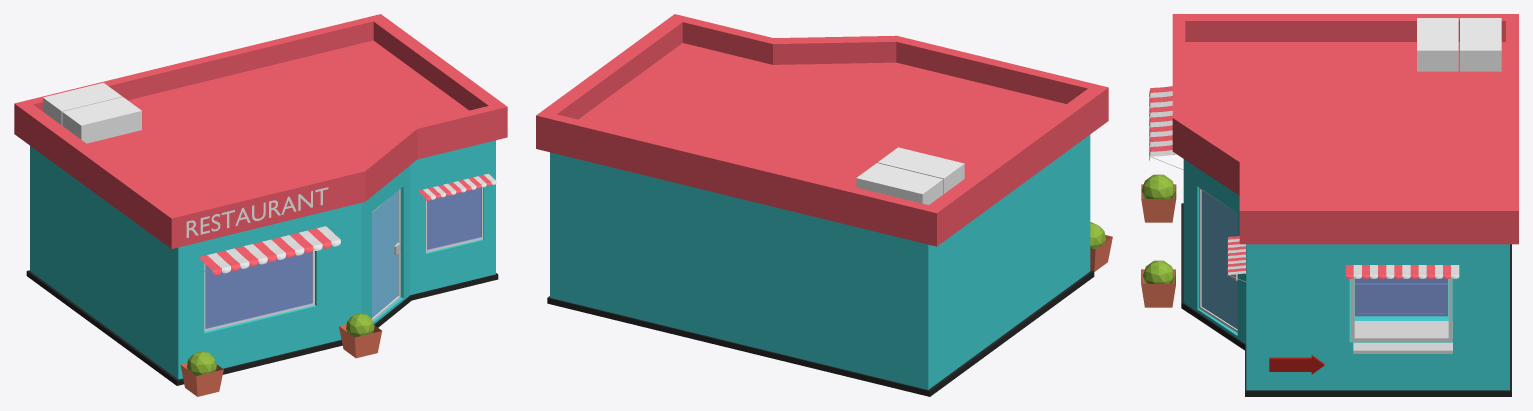
File: restaurant.fbx
3 renders of one model, left to right at view 1: azimuth 30°, elevation 25°; view 2: azimuth 150°, elevation 25°; view 3: azimuth 270°, elevation 25°, orthographic. The views are drawn at different scales.
Visible parts, largest first — view 1: Cube.095, Cube.094, Plane.015, Plane.011, Plane.014, Cylinder.008, Cube.096, Cube, Cube.001, Icosphere, Icosphere.003, Text (+1 smaller); view 2: Cube.095, Cube.094, Cube.096, Cube.001, Cube, Icosphere; view 3: Cube.095, Cube.094, Plane.011, Cube.105, Cube.096, Cube, Cube.001, Cylinder.008, Cylinder.006, Icosphere, Icosphere.003, Cube.099 (+4 smaller).
Part boxes in pixels (x1=…): Cube.095: x1=14, y1=14, x2=507, y2=248; Cube.094: x1=30, y1=140, x2=495, y2=379; Plane.015: x1=204, y1=249, x2=314, y2=331; Plane.011: x1=372, y1=189, x2=400, y2=320; Plane.014: x1=426, y1=187, x2=483, y2=252; Cylinder.008: x1=198, y1=226, x2=340, y2=275; Cube.096: x1=26, y1=270, x2=498, y2=385; Cube: x1=62, y1=97, x2=141, y2=143; Cube.001: x1=43, y1=82, x2=122, y2=125; Icosphere: x1=180, y1=351, x2=223, y2=396; Icosphere.003: x1=339, y1=313, x2=382, y2=358; Text: x1=186, y1=187, x2=328, y2=237; Cube.095: x1=536, y1=14, x2=1108, y2=246; Cube.094: x1=550, y1=135, x2=1090, y2=389; Cube.096: x1=547, y1=270, x2=1094, y2=396; Cube.001: x1=856, y1=163, x2=943, y2=204; Cube: x1=877, y1=147, x2=964, y2=194; Icosphere: x1=1090, y1=222, x2=1112, y2=271; Cube.095: x1=1172, y1=14, x2=1518, y2=244; Cube.094: x1=1183, y1=159, x2=1509, y2=390; Plane.011: x1=1199, y1=187, x2=1237, y2=332; Cube.105: x1=1355, y1=277, x2=1447, y2=316; Cube.096: x1=1181, y1=203, x2=1511, y2=396; Cube: x1=1417, y1=18, x2=1458, y2=71; Cube.001: x1=1460, y1=18, x2=1501, y2=71; Cylinder.008: x1=1149, y1=86, x2=1183, y2=169; Cylinder.006: x1=1345, y1=265, x2=1459, y2=278; Icosphere: x1=1141, y1=174, x2=1176, y2=222; Icosphere.003: x1=1141, y1=260, x2=1175, y2=307; Cube.099: x1=1350, y1=277, x2=1452, y2=341.
Bounding box in the file's own units: 3150 × 1443 × 2505.
